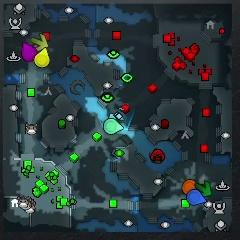p1: (187, 189, 206, 206)
p2: (103, 118, 124, 134)
p3: (21, 41, 38, 62)
p4: (33, 48, 51, 68)
p5: (182, 179, 198, 195)
x2: (32, 34, 48, 51)
x3: (108, 113, 125, 121)
x4: (195, 180, 212, 196)
